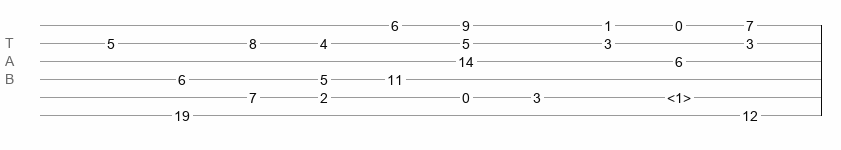0: (462, 90, 470, 100), (675, 18, 683, 28)
1: (604, 18, 612, 28)
11: (387, 72, 403, 82)
12: (742, 108, 758, 118)
14: (458, 54, 474, 64)
19: (174, 108, 190, 118)
2: (320, 90, 328, 100)
3: (533, 90, 541, 100), (604, 36, 612, 46), (746, 36, 754, 46)
4: (320, 36, 328, 46)
5: (107, 36, 115, 46), (320, 72, 328, 82), (462, 36, 470, 46)
6: (178, 72, 186, 82), (391, 18, 399, 28), (675, 54, 683, 64)
7: (249, 90, 257, 100), (746, 18, 754, 28)
8: (249, 36, 257, 46)
9: (462, 18, 470, 28)
harmonic: (667, 90, 691, 100)
